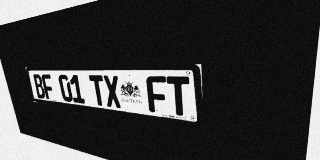0: (58, 75, 73, 102)
1: (68, 75, 85, 104)
B: (32, 74, 46, 99)
F: (146, 76, 169, 114), (41, 74, 55, 100)
T: (166, 76, 191, 117), (89, 75, 107, 106)
X: (103, 75, 122, 108)
